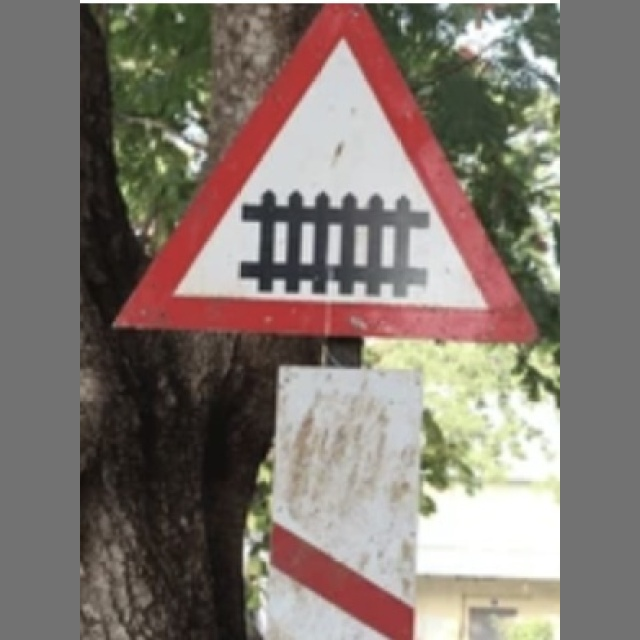Guarded_Level_Crossing: (134, 22, 520, 333)
